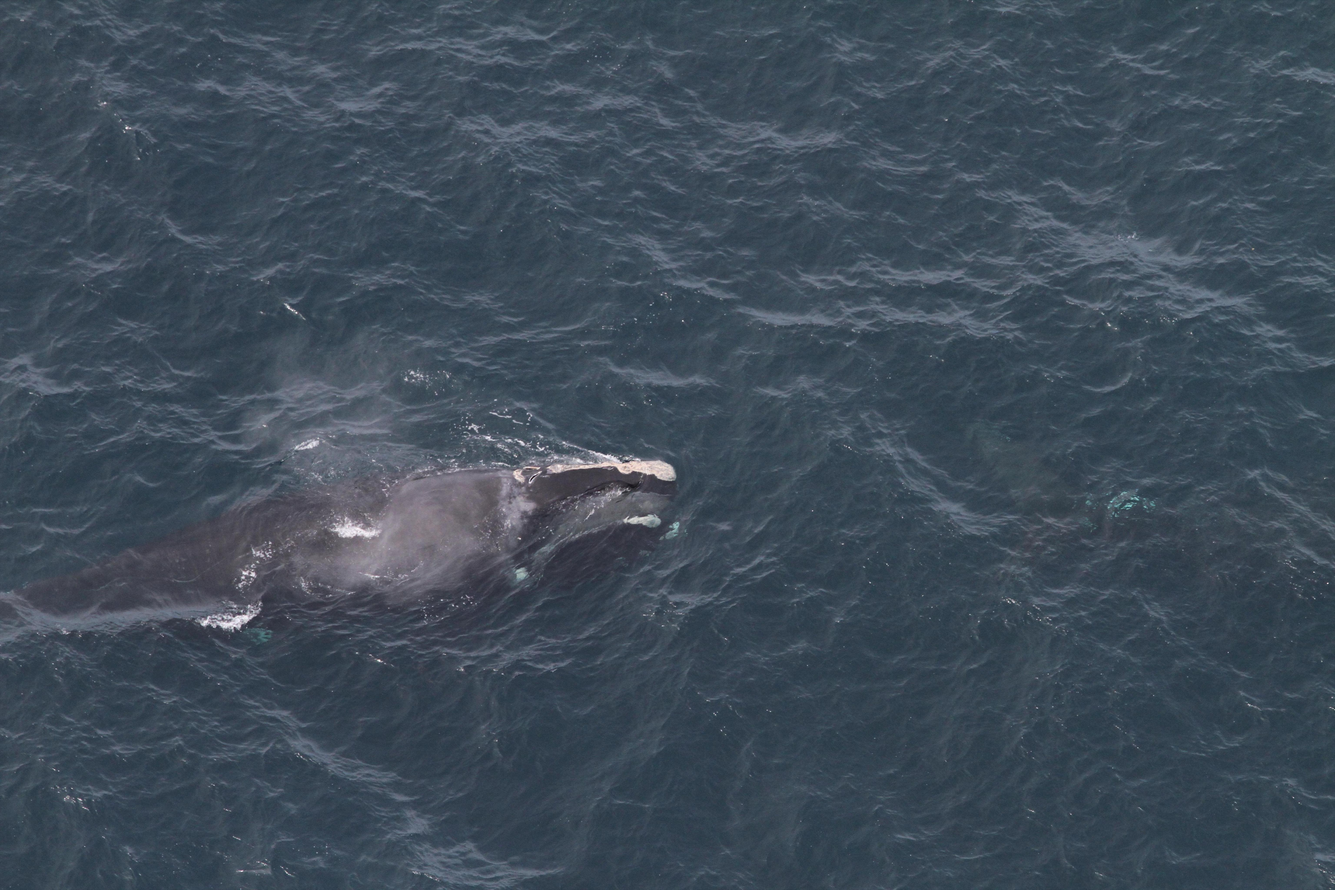whale: (0, 445, 695, 647)
